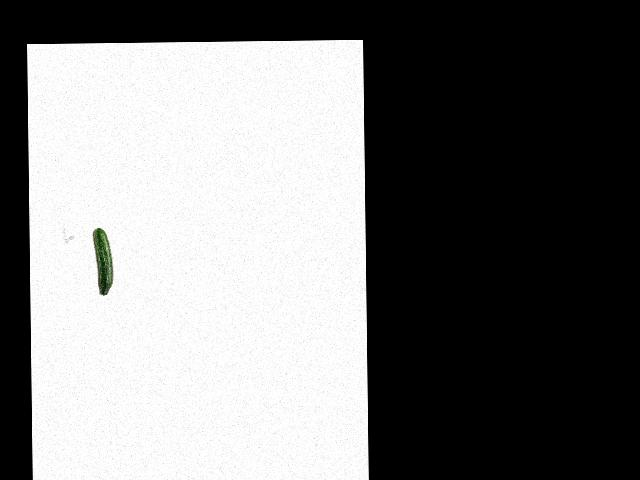cucumber: (93, 227, 113, 295)
